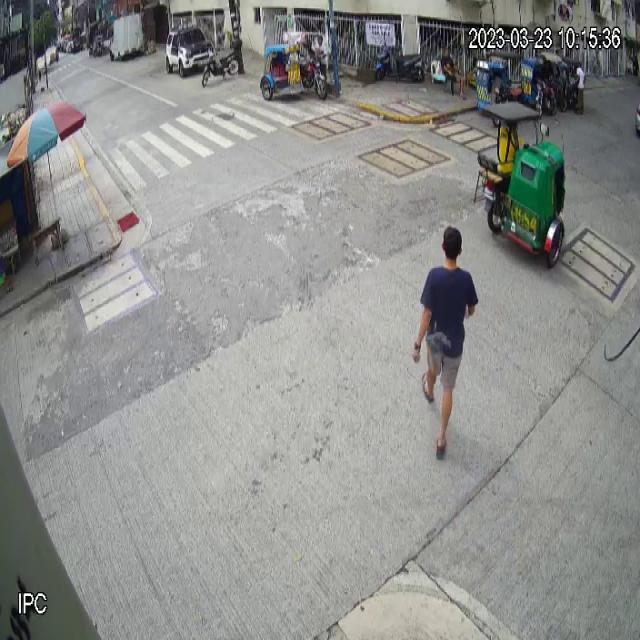Tricycle: (472, 100, 568, 270), (260, 30, 328, 101)
